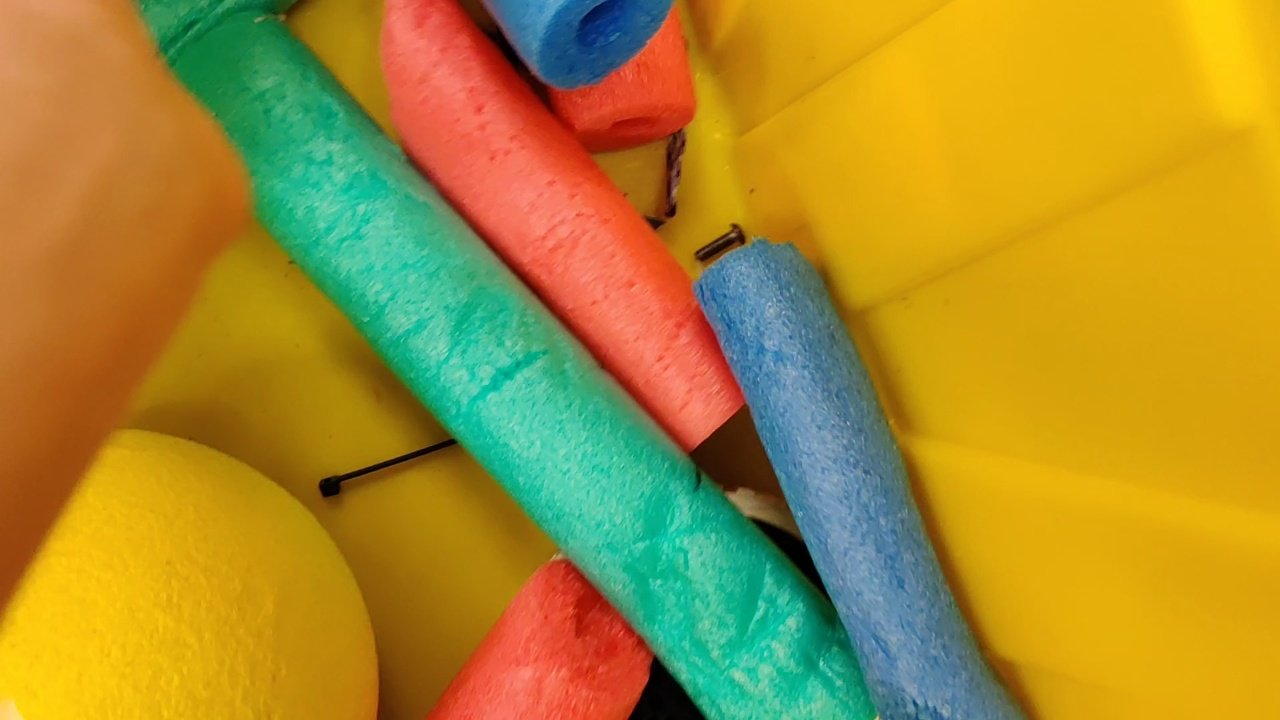Ball: (1, 428, 377, 720)
